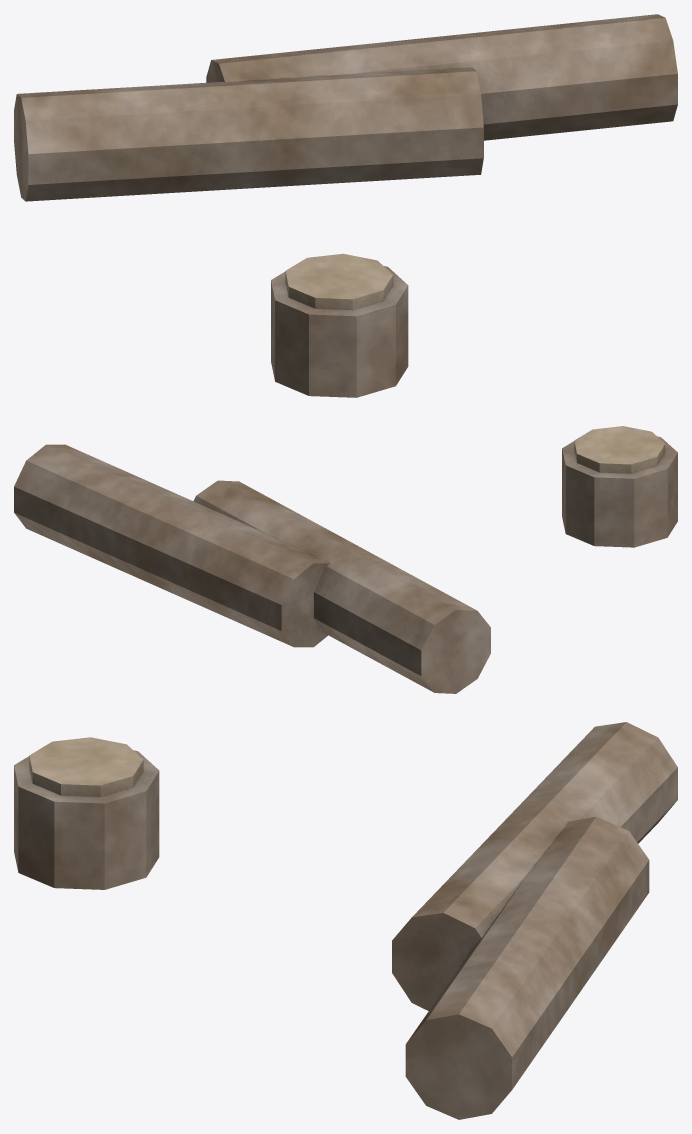
Rendered from res_wood_1.glb.
3 renders of one model, top to bottom at view 1: azimuth 30°, elevation 25°; view 2: azimuth 150°, elevation 25°; view 3: azimuth 270°, elevation 25°, orthographic. The views are drawn at different scales.
Visible parts, largest first — view 1: dilek; view 2: dilek; view 3: dilek.
Boxes of the visible parts, x1,y1,x2,y2 form: dilek: (14, 14, 677, 397); dilek: (14, 426, 677, 693); dilek: (14, 722, 677, 1119).
Bounding box in the file's own units: 0.6874 × 0.11 × 0.6268.
Materials: 1 (1 with a texture image).
